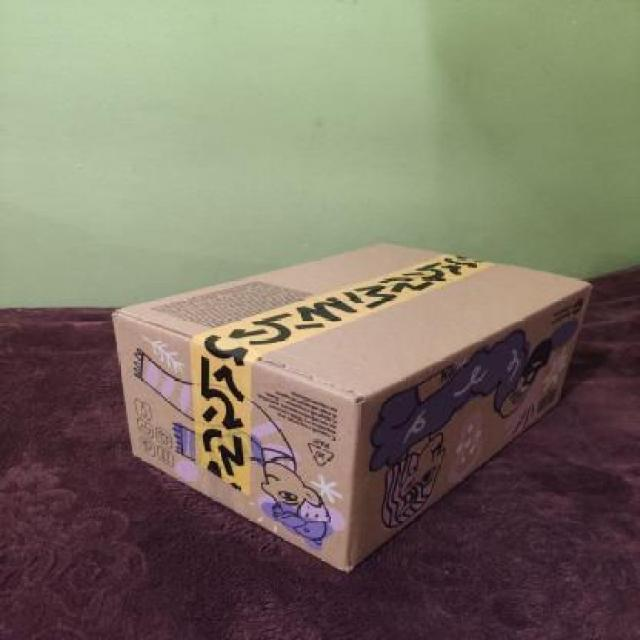box: (110, 233, 590, 566)
